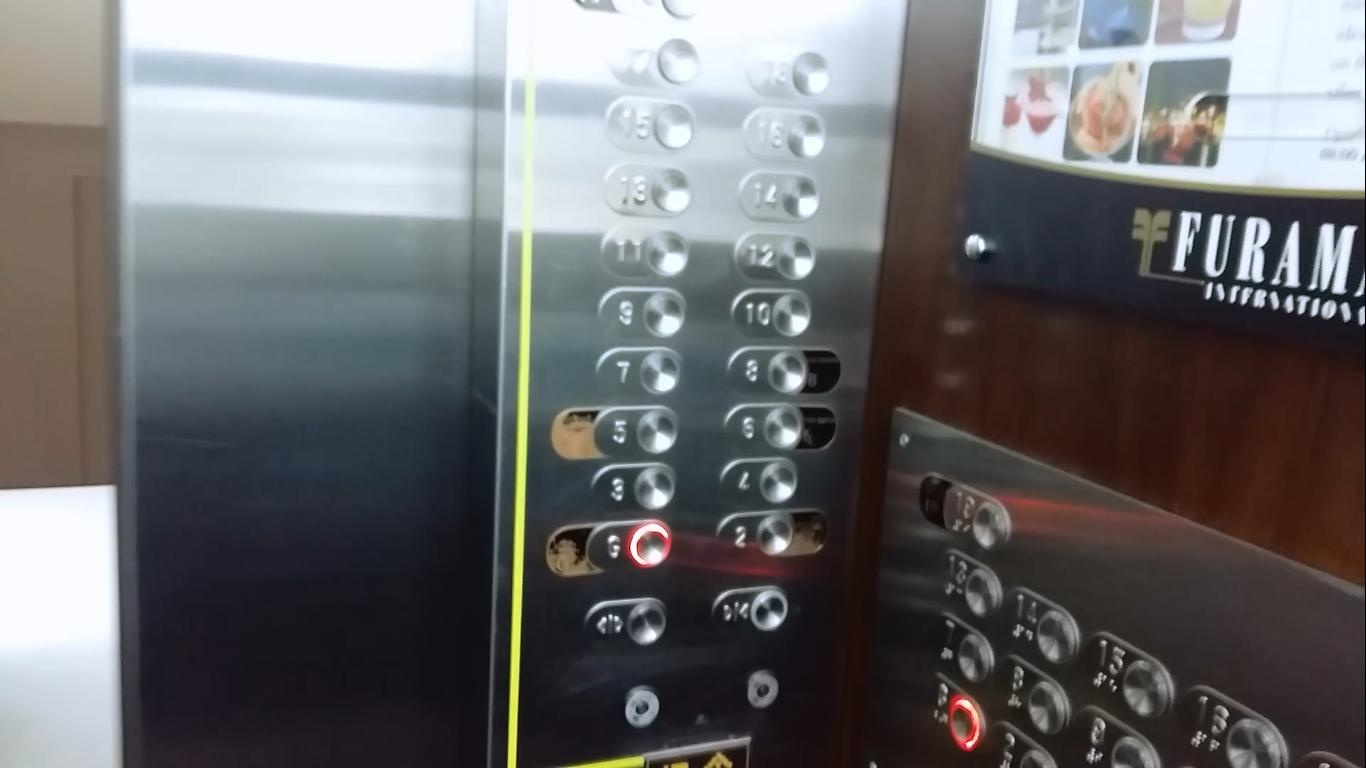10: (723, 284, 818, 340)
11: (595, 225, 690, 283)
12: (725, 227, 820, 284)
13: (602, 157, 704, 220), (928, 544, 1005, 624)
14: (1001, 582, 1081, 671), (734, 167, 822, 225)
15: (1079, 616, 1173, 725), (605, 92, 704, 154)
16: (736, 101, 830, 163)
18: (737, 44, 835, 101)
2: (709, 505, 801, 563)
3: (588, 457, 680, 513)
4: (713, 454, 799, 505)
5: (593, 401, 681, 456)
6: (717, 400, 806, 452)
7: (586, 345, 686, 403), (929, 610, 994, 690)
8: (721, 340, 817, 398)
9: (592, 284, 690, 341)
G: (579, 516, 674, 573)
blur: (995, 653, 1076, 737), (916, 669, 986, 752), (940, 473, 1013, 552), (603, 35, 702, 91)
close: (704, 583, 792, 639)
keyhole: (622, 683, 660, 727), (746, 669, 779, 709)
open: (583, 591, 671, 652)
